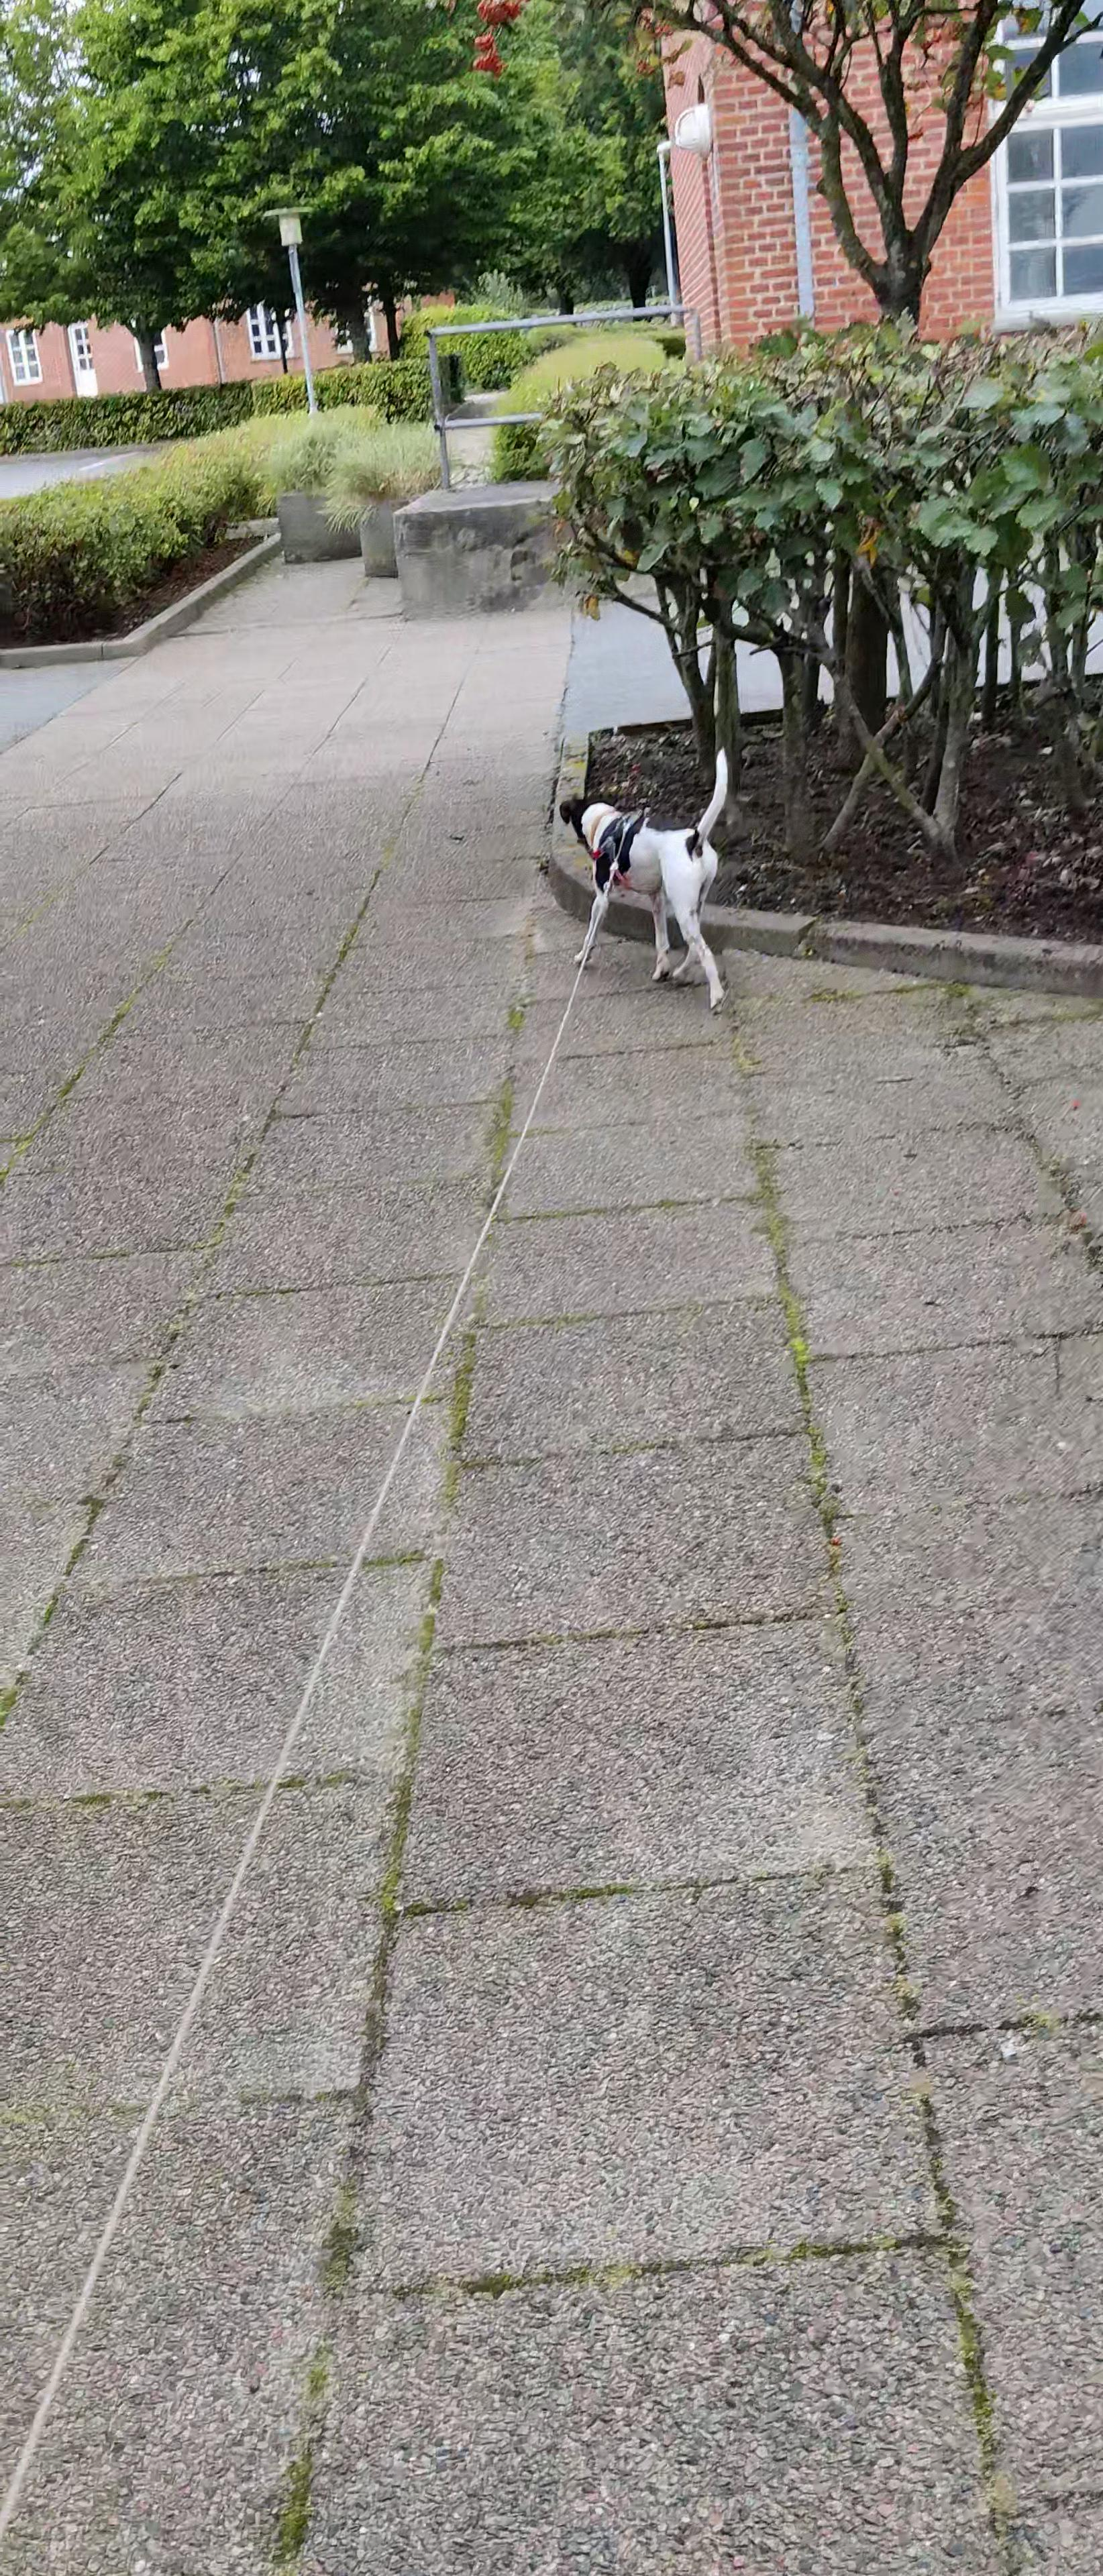Dog: (551, 739, 746, 1014)
